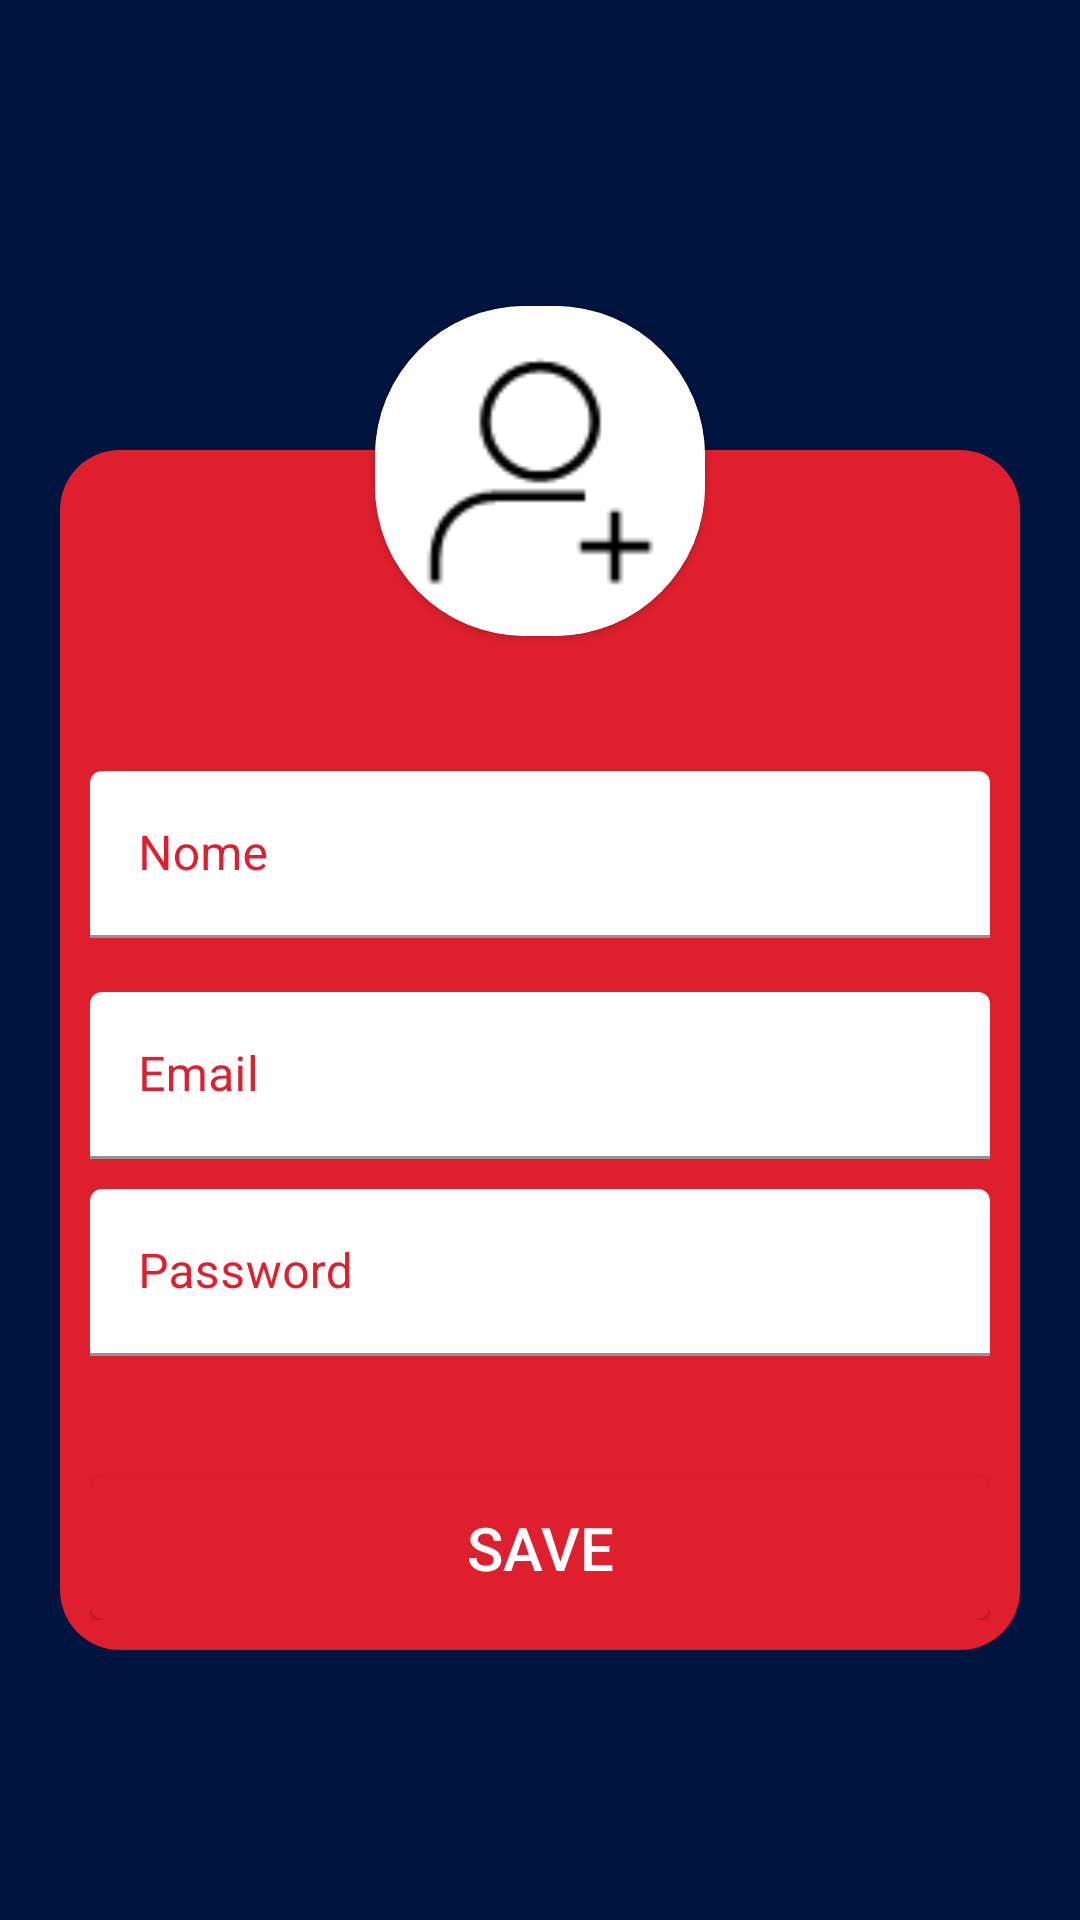

Icons on this 1080 × 1920 Android screen, each with the point to tap as (x=x, y=y):
profile: (x=540, y=471)
